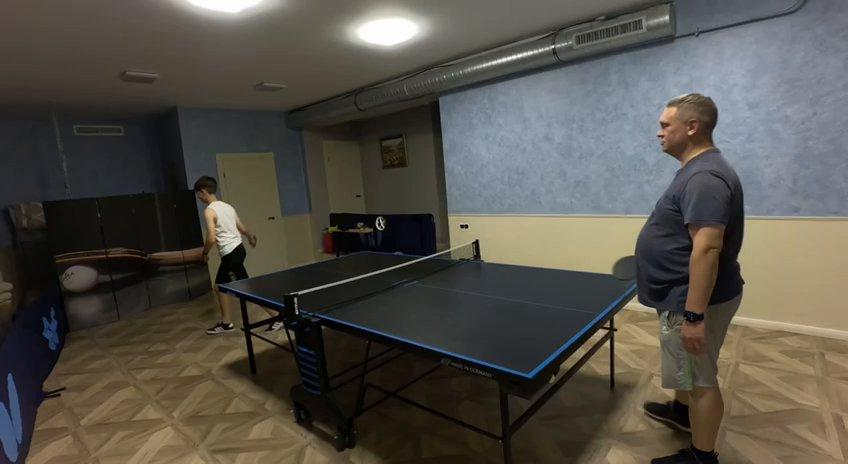Net: (284, 239, 482, 316)
Player1: (195, 176, 255, 282)
Player2: (636, 93, 743, 463)
Table: (216, 251, 639, 381)
